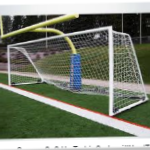goals: (6, 23, 150, 115)
